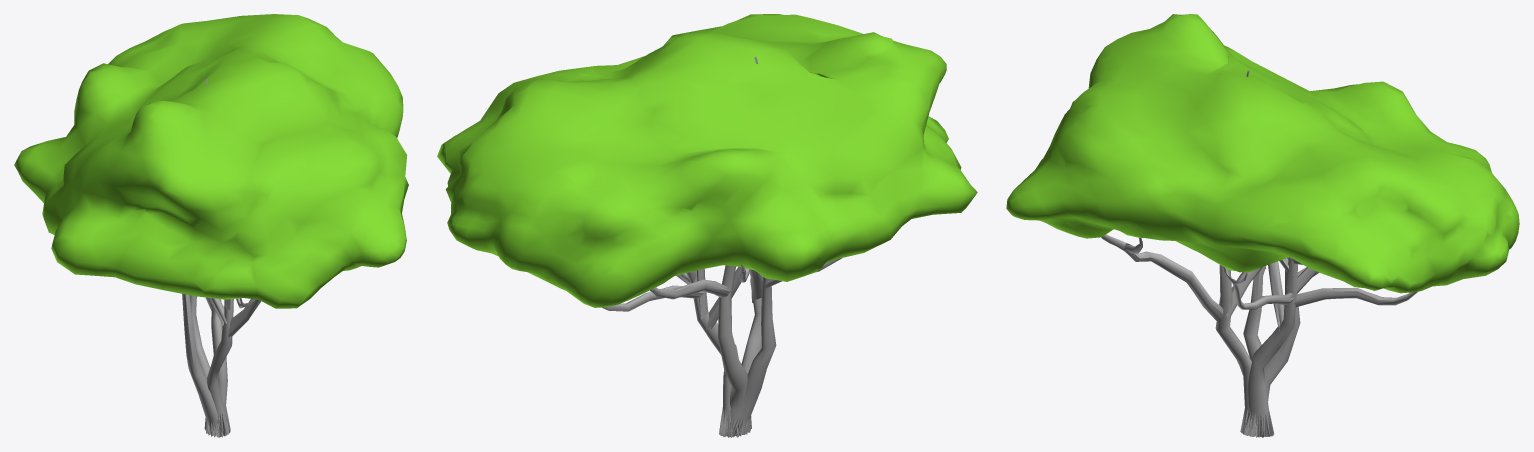
File: AfricaTree09.fbx
3 renders of one model, left to right at view 1: azimuth 30°, elevation 25°; view 2: azimuth 150°, elevation 25°; view 3: azimuth 270°, elevation 25°, orthographic. The views are drawn at different scales.
Parts seen in each view (by area): view 1: Leaves, Trunk; view 2: Leaves, Trunk; view 3: Leaves, Trunk.
Part boxes in pixels (<box>): Leaves: <box>14,14,408,308</box>; Trunk: <box>182,77,261,437</box>; Leaves: <box>437,14,977,307</box>; Trunk: <box>602,56,841,437</box>; Leaves: <box>1006,14,1519,293</box>; Trunk: <box>1101,70,1418,437</box>.
Size of the model in its own units: 2983 by 2545 by 3192.
